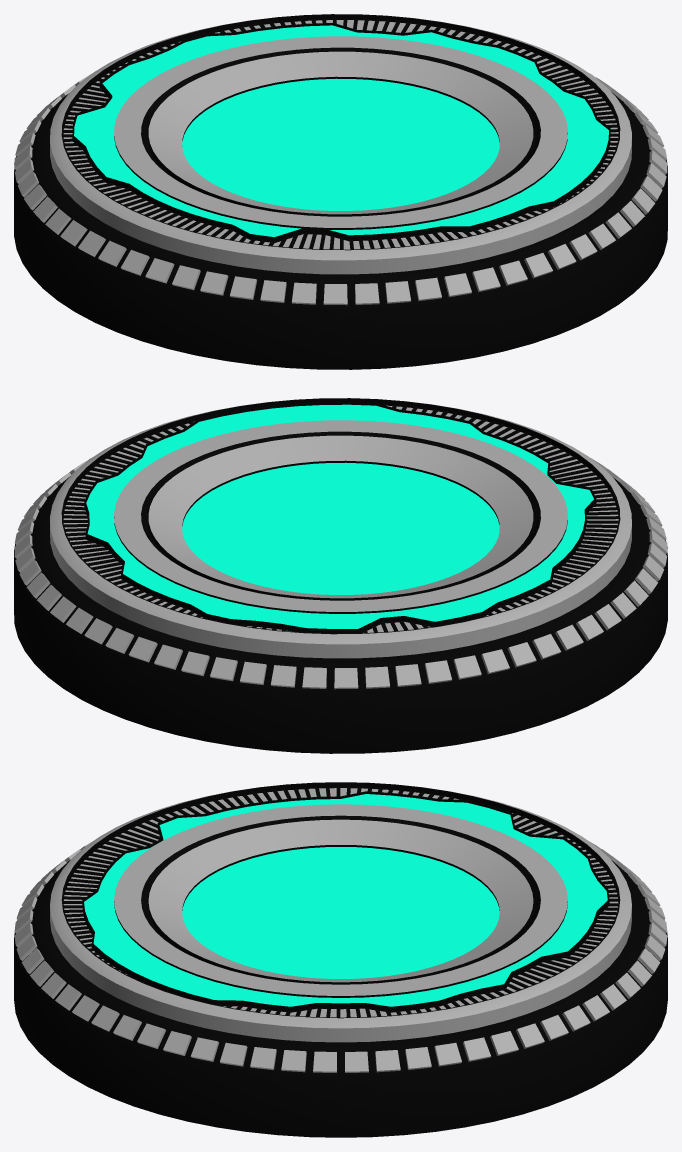
The model's file is FinishPad.fbx.
3 renders of one model, top to bottom at view 1: azimuth 30°, elevation 25°; view 2: azimuth 150°, elevation 25°; view 3: azimuth 270°, elevation 25°, orthographic.
Parts seen in each view (by area): view 1: Circle, Cube; view 2: Circle, Cube; view 3: Circle, Cube.
Boxes of the visible parts, <box> form: Circle: <box>14,14,667,369</box>; Cube: <box>63,18,618,249</box>; Circle: <box>14,398,667,753</box>; Cube: <box>63,404,618,633</box>; Circle: <box>14,782,667,1137</box>; Cube: <box>63,786,618,1017</box>.
Bounding box in the file's own units: 254 × 42.65 × 254.
